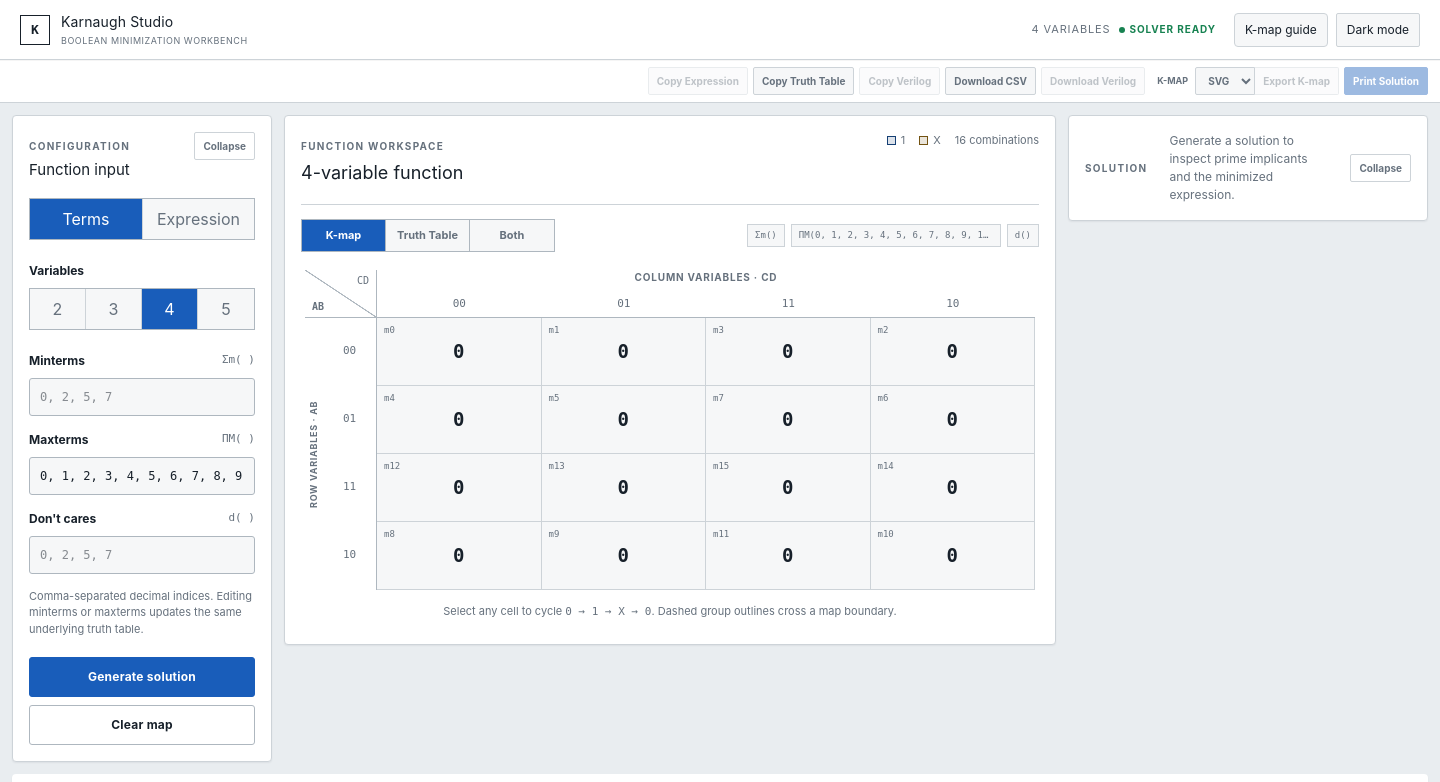
it: HomePage K-map workbench › reports malformed and unsupported expressions without replacing the function
The width and height of the screenshot is (1440, 782).
Click the button "Expression" at (198, 218), box [142, 198, 254, 238]
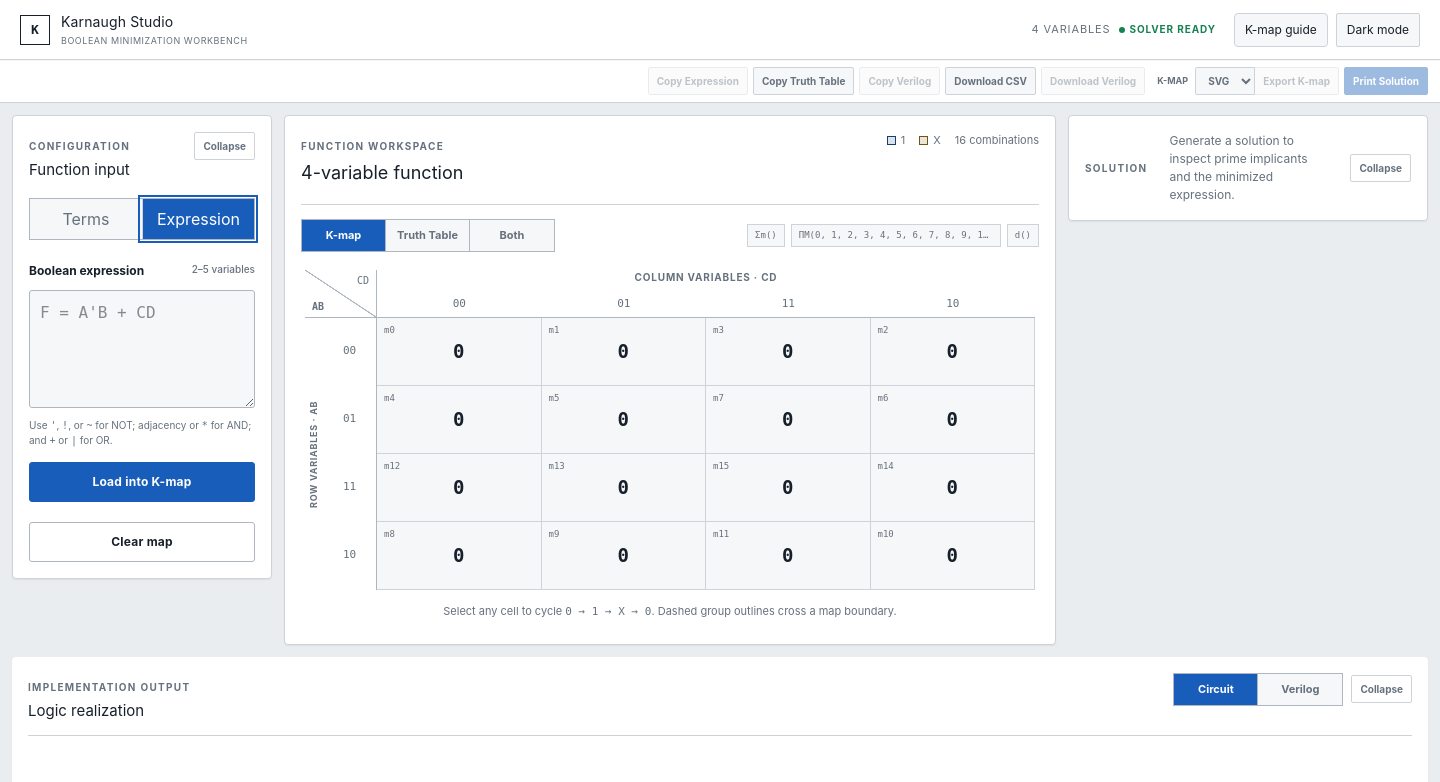
Type "A+++B" into the text box labelled "Boolean expression 2–5 variables" at (142, 348), box [29, 290, 255, 408]
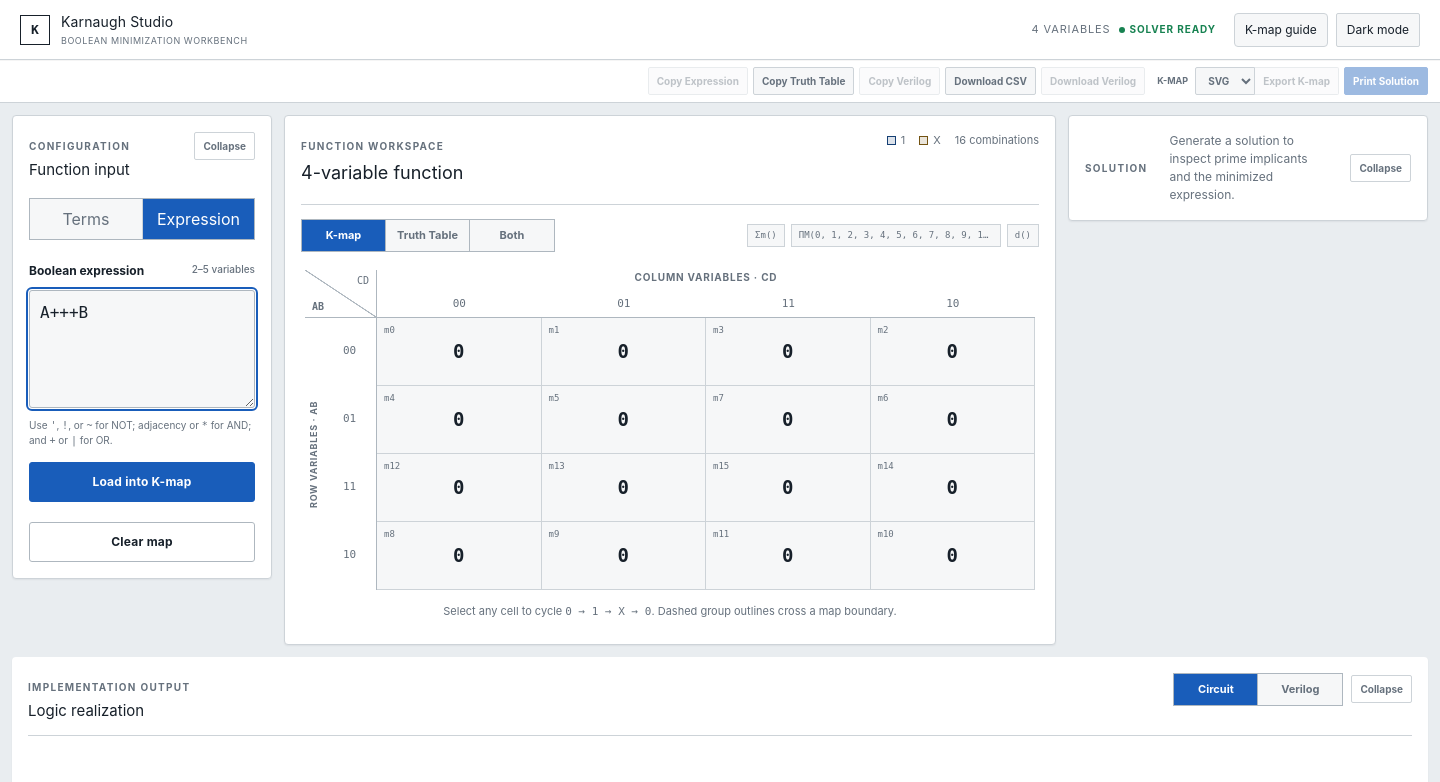
Click the button "Load into K-map" at (142, 482), box [29, 462, 255, 502]
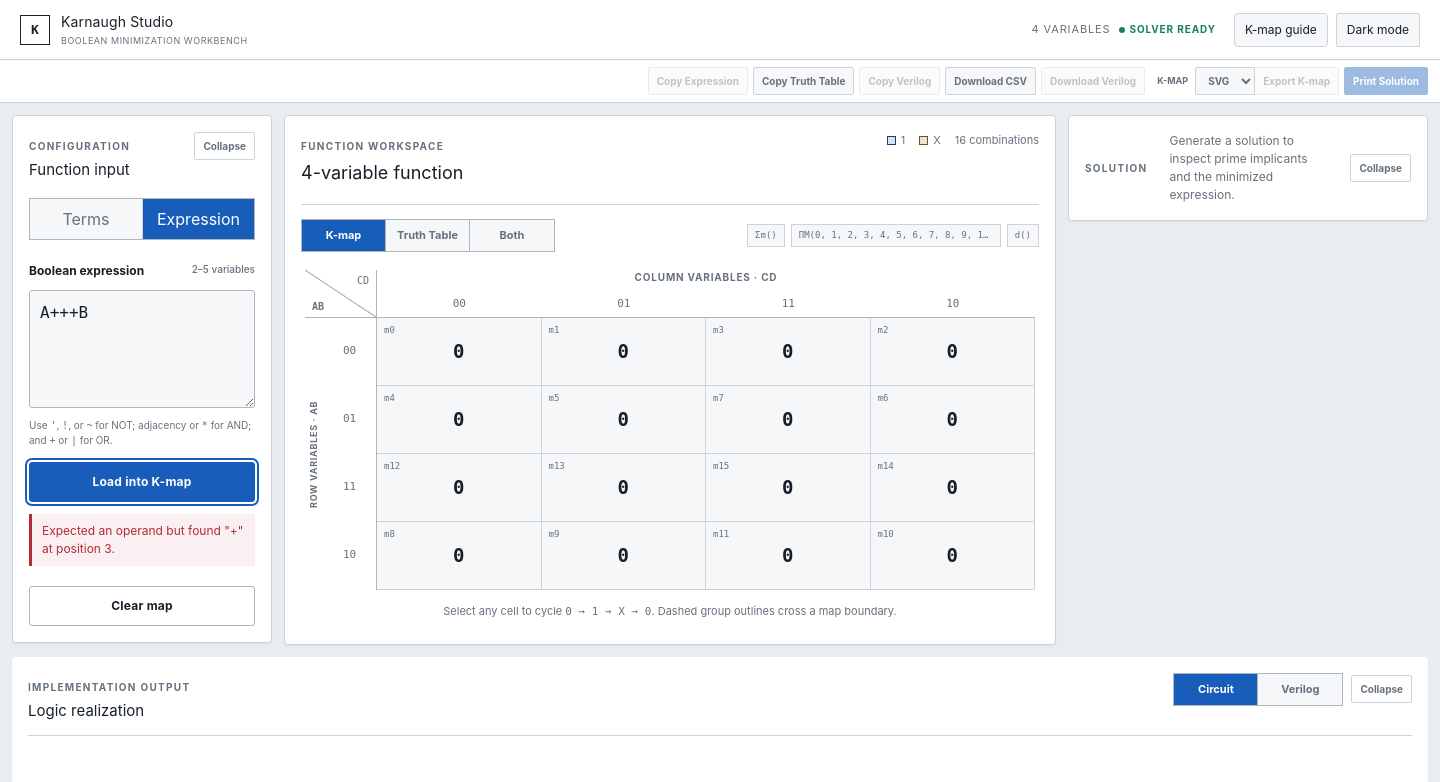
Expected: the heading "4-variable function" is shown, [301, 159, 463, 186]
Now the message shows "Expected an operand", box [42, 522, 243, 556]
Replace the text in the text box labelled "Boolean expression 2–5 variables" with "A+B+C+D+E+G" at (142, 348), box [29, 290, 255, 408]
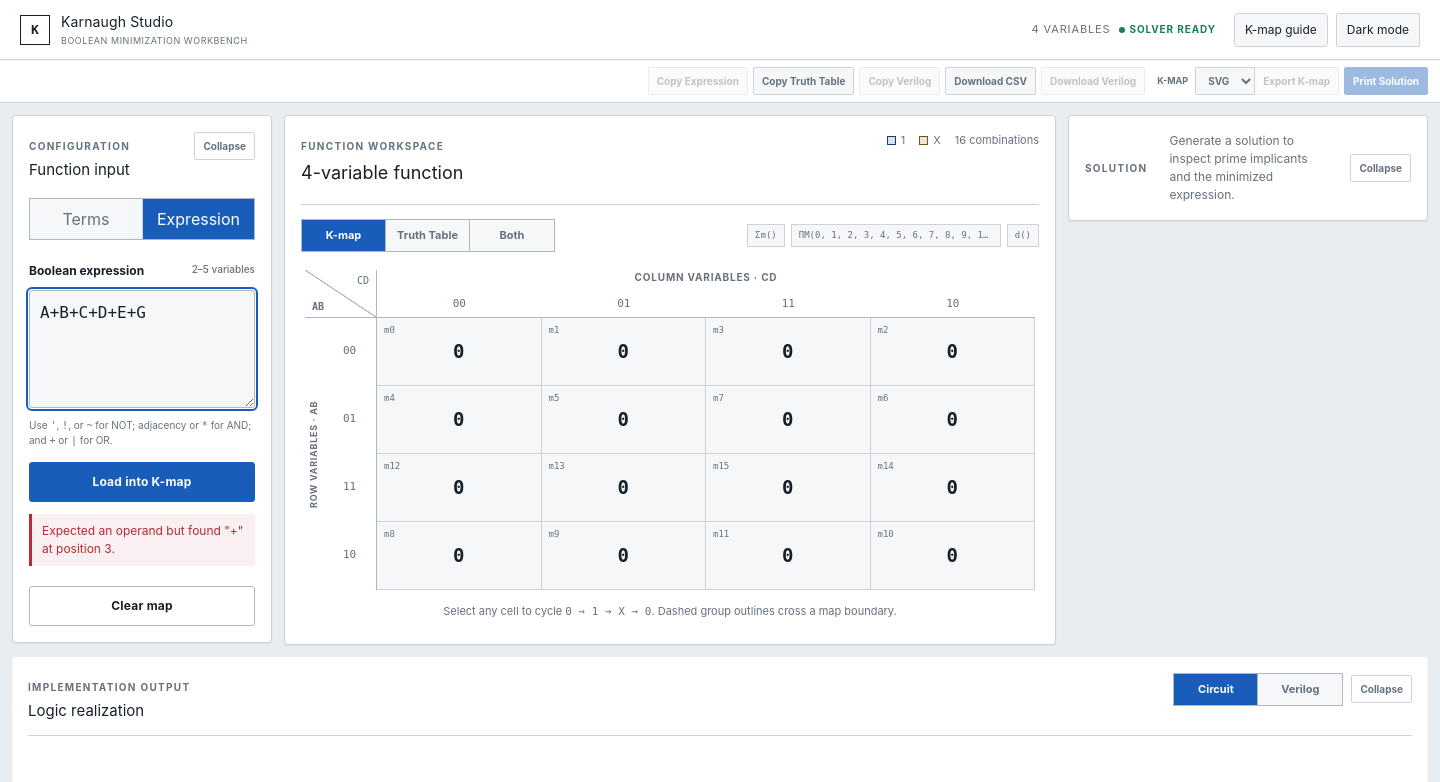
Click the button "Load into K-map" at (142, 482), box [29, 462, 255, 502]
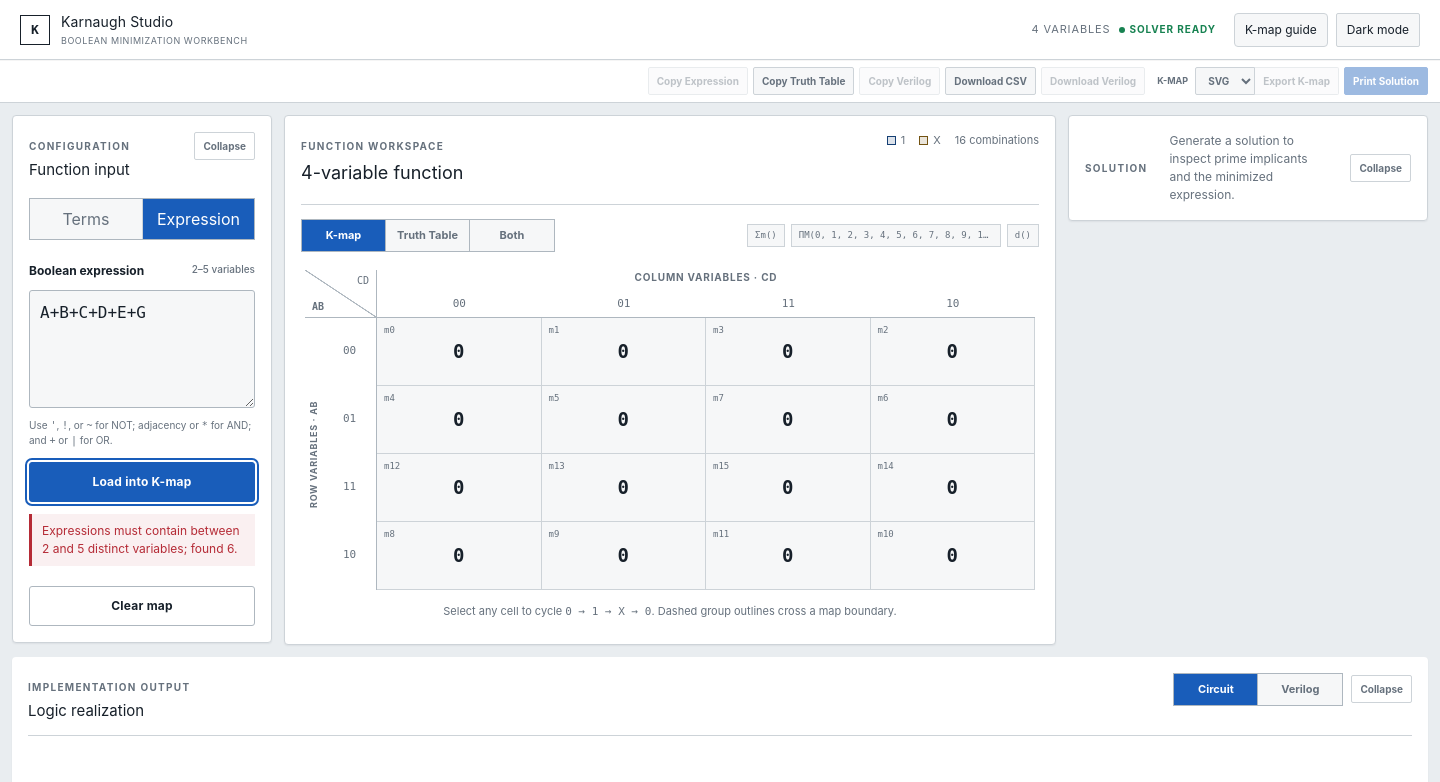
Now the message shows "between 2 and 5 distinct variables; found 6", box [42, 522, 240, 556]
